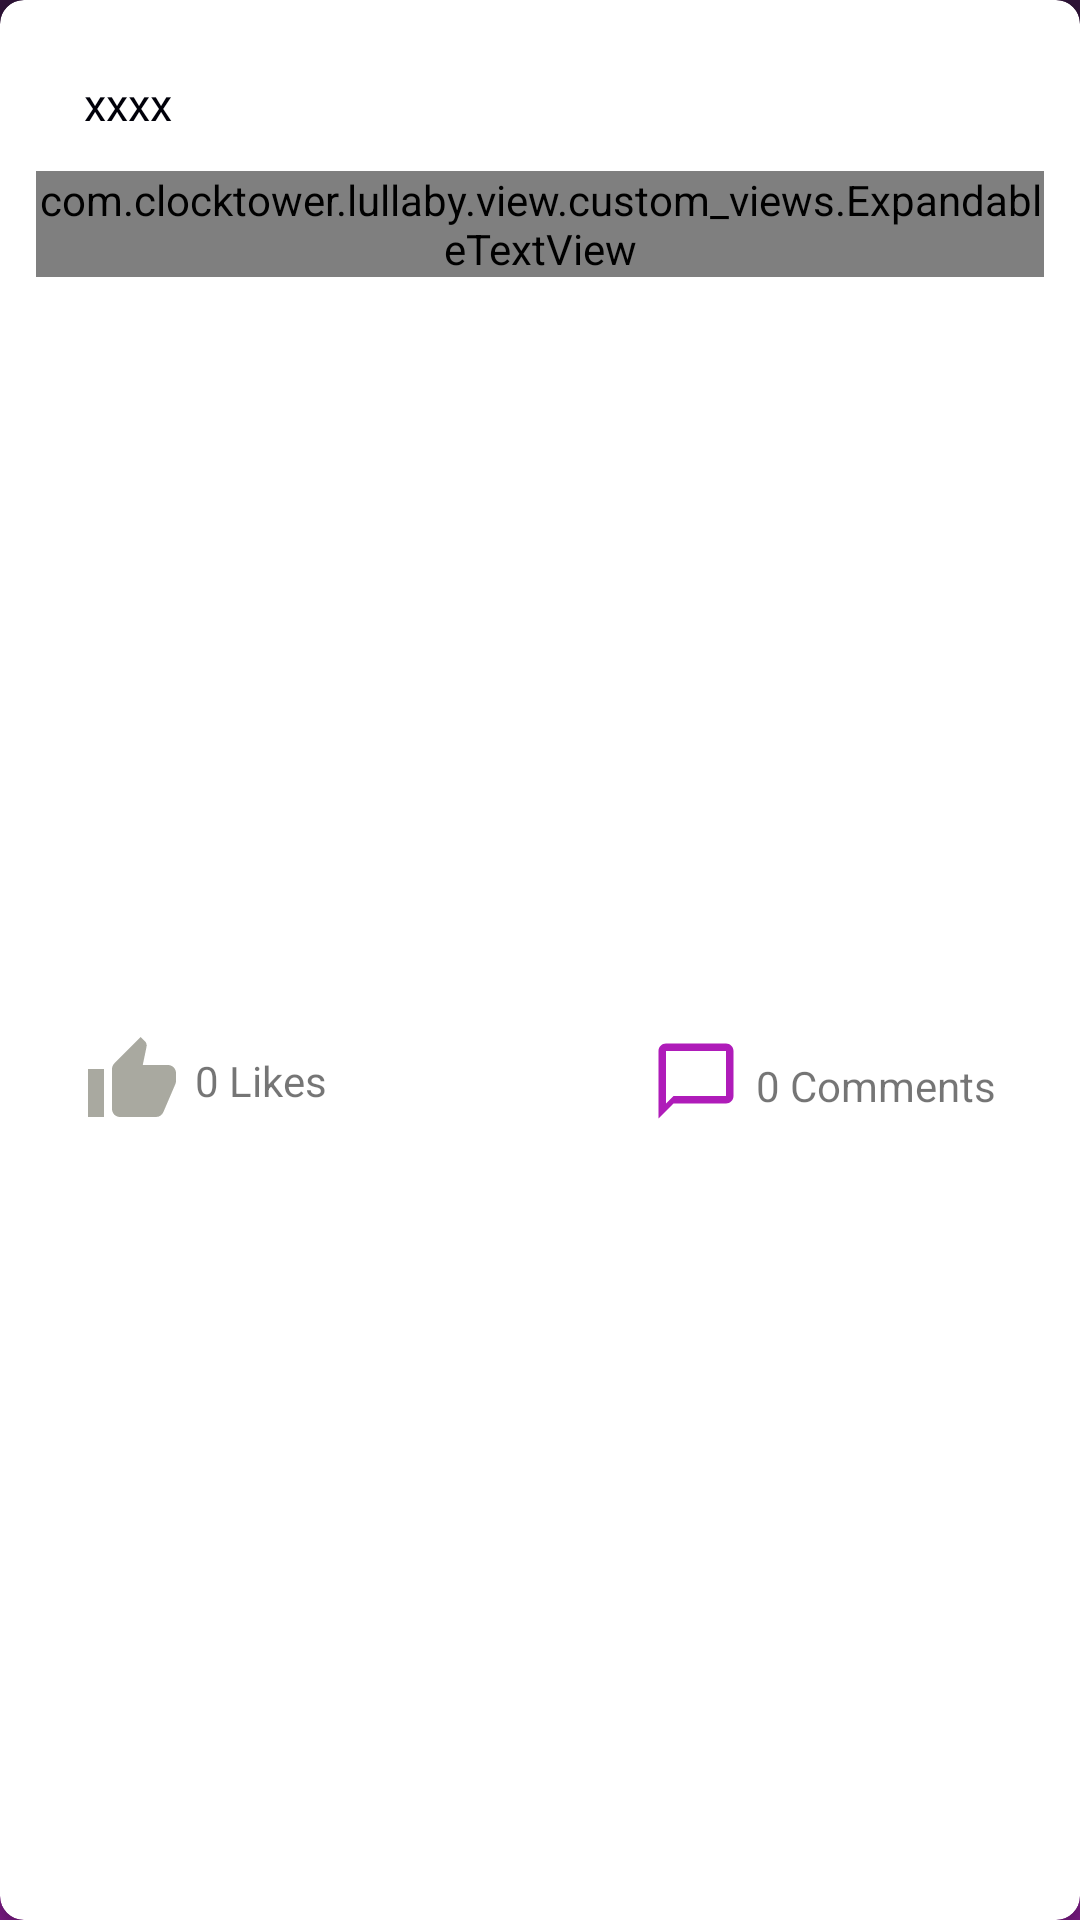

Where to tap for icons on this 1080*1920 app screen, as [x,y]:
like off: [132,1077]
